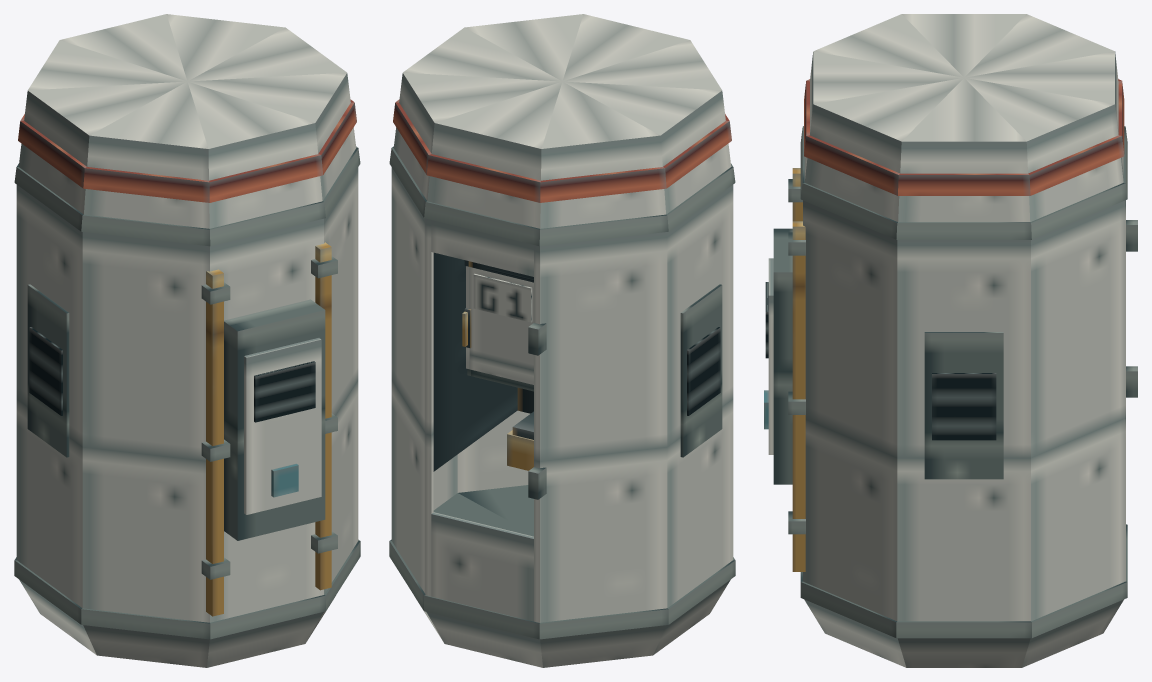
The model's file is rocket_body.obj.
3 views of the same model, side by side, from view 1: azimuth 30°, elevation 25°; view 2: azimuth 150°, elevation 25°; view 3: azimuth 270°, elevation 25° (orthographic).
Parts seen in each view (by area): view 1: Body; view 2: Body, Hatch; view 3: Body.
Part boxes in pixels (x1,y1,x2,y2): Body: [14, 14, 360, 667]; Body: [389, 14, 735, 667]; Hatch: [462, 260, 533, 391]; Body: [764, 14, 1137, 667].
Size of the model in its own units: 1.42 by 2.5 by 1.59.
